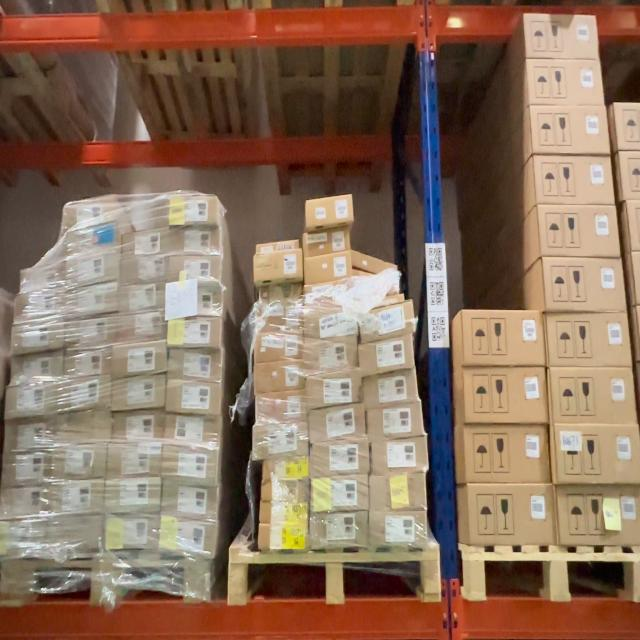box: (465, 484, 556, 544), (555, 426, 640, 484), (550, 370, 637, 426), (463, 427, 549, 482), (559, 486, 640, 543), (462, 369, 550, 421), (463, 310, 544, 365), (548, 313, 630, 367), (546, 258, 626, 310), (540, 206, 619, 256), (536, 155, 614, 204), (534, 106, 610, 154), (530, 59, 604, 105), (526, 15, 598, 60), (311, 439, 369, 476), (311, 476, 369, 512), (369, 512, 427, 548), (372, 474, 428, 511), (164, 484, 218, 522), (358, 336, 414, 372), (107, 478, 161, 515), (373, 437, 427, 474), (311, 514, 368, 549), (311, 407, 366, 443), (306, 373, 361, 409), (64, 249, 119, 285), (48, 480, 106, 514), (47, 519, 103, 554), (160, 522, 214, 558), (360, 302, 414, 338), (368, 404, 425, 438), (106, 517, 160, 552), (169, 283, 224, 317), (364, 371, 419, 405), (54, 410, 109, 444), (112, 375, 165, 410), (255, 423, 308, 458), (306, 337, 359, 372), (109, 444, 162, 478), (166, 450, 219, 484), (167, 382, 220, 416), (305, 306, 358, 340), (168, 350, 222, 382), (63, 284, 117, 316), (65, 200, 119, 232), (52, 446, 104, 479), (168, 318, 223, 349), (61, 378, 111, 412), (113, 344, 166, 376), (166, 416, 219, 448), (5, 385, 54, 419), (0, 523, 44, 560), (11, 354, 65, 384), (168, 225, 222, 255), (257, 328, 304, 362), (2, 452, 50, 485), (12, 323, 66, 352), (113, 413, 164, 443), (169, 195, 218, 226), (65, 316, 114, 347), (64, 227, 118, 255), (256, 392, 306, 422), (256, 362, 304, 393), (305, 196, 351, 228), (306, 252, 352, 284), (167, 254, 221, 281), (354, 277, 404, 306), (1, 486, 47, 517), (117, 313, 166, 342), (256, 252, 302, 282), (5, 422, 50, 451), (303, 282, 352, 308), (18, 291, 65, 318), (66, 351, 110, 379), (303, 230, 350, 256), (259, 456, 307, 481), (121, 284, 164, 311), (123, 256, 166, 283), (122, 231, 166, 257), (258, 301, 302, 327), (256, 282, 302, 306), (259, 503, 306, 526), (259, 528, 308, 550), (260, 482, 308, 504), (353, 252, 400, 274), (23, 263, 62, 288), (258, 240, 298, 253)
